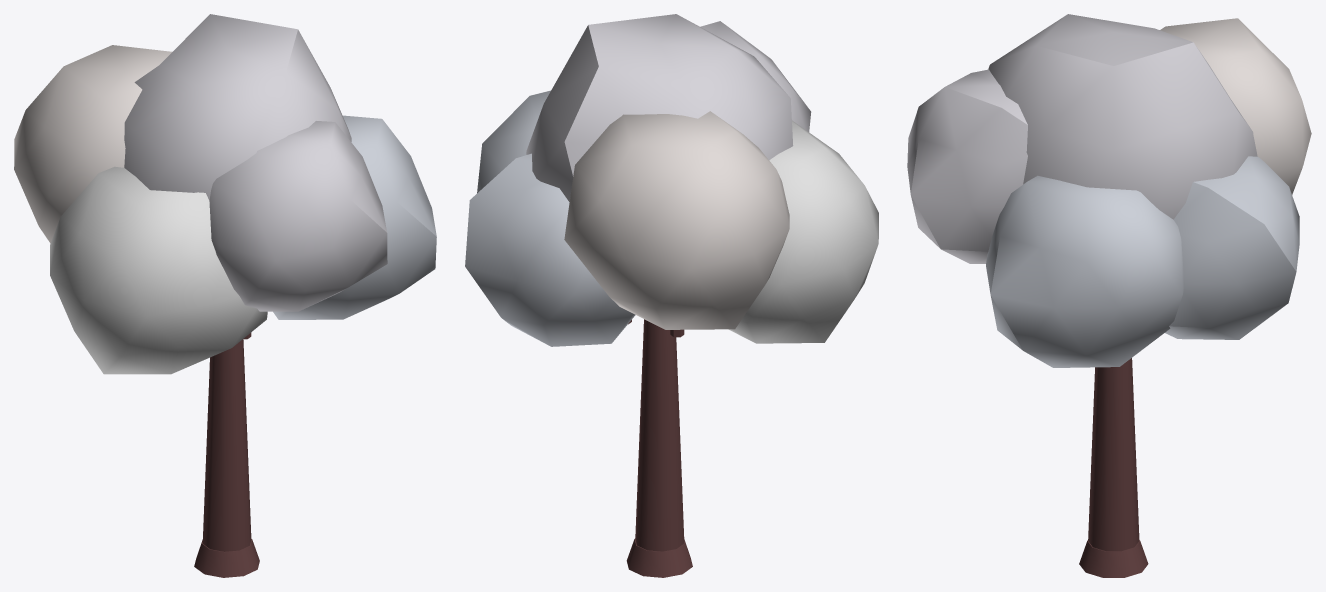
File: sakura_1.glb
3 views of the same model, side by side, from view 1: azimuth 30°, elevation 25°; view 2: azimuth 150°, elevation 25°; view 3: azimuth 270°, elevation 25° (orthographic). The views are drawn at different scales.
Visible parts, largest first — view 1: sakura; view 2: sakura; view 3: sakura.
Boxes of the visible parts, x1=… form: sakura: x1=14, y1=14, x2=436, y2=577; sakura: x1=465, y1=14, x2=878, y2=577; sakura: x1=907, y1=14, x2=1311, y2=577.
Bounding box in the file's own units: 4.15 × 5.77 × 3.96.
